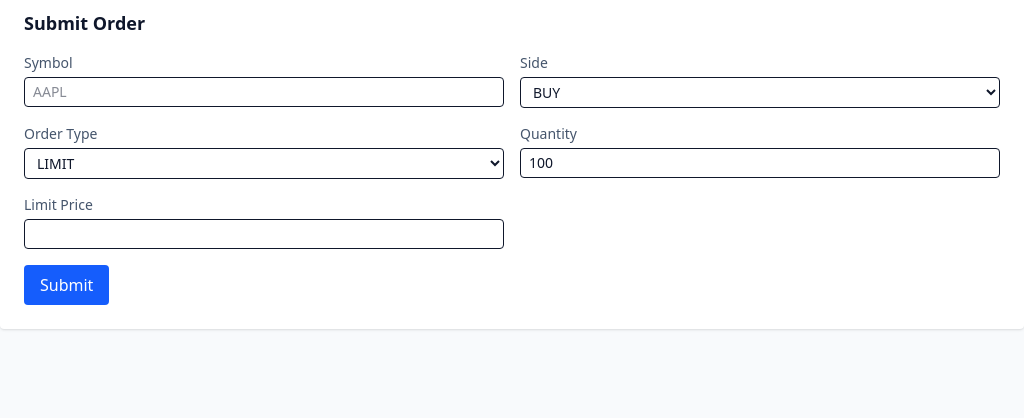
Test case: OrderForm — PEGGED › shows pegType / pegOffsetBps / priceCap fields for PEGGED order type only
Expected: the field labelled "peg type" is not shown
Expected: the field labelled "peg offset" is not shown
Select "PEGGED" in the dropdown labelled "Order Type" at x=264, y=164, box 24,148 -> 504,179
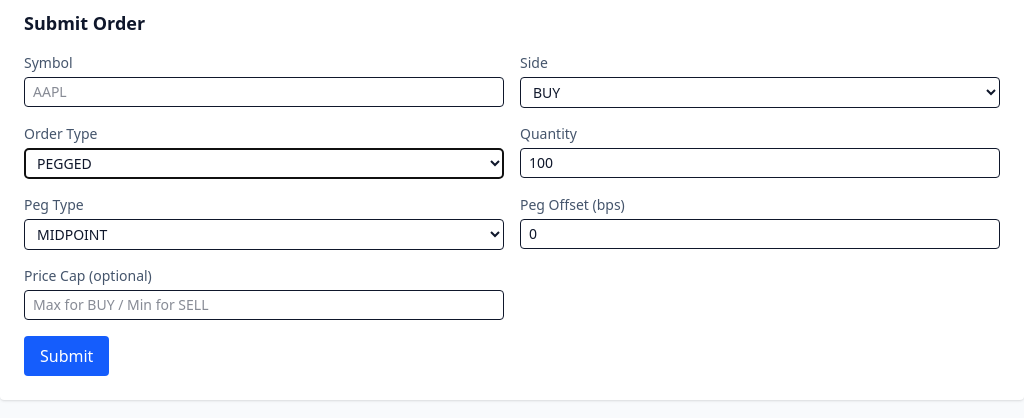
Result: the dropdown labelled "Peg Type" is shown at 24,219 -> 504,250
Result: the number field labelled "Peg Offset (bps)" is shown at 520,219 -> 1000,249
Result: the number field labelled "Price Cap (optional)" is shown at 24,290 -> 504,320
